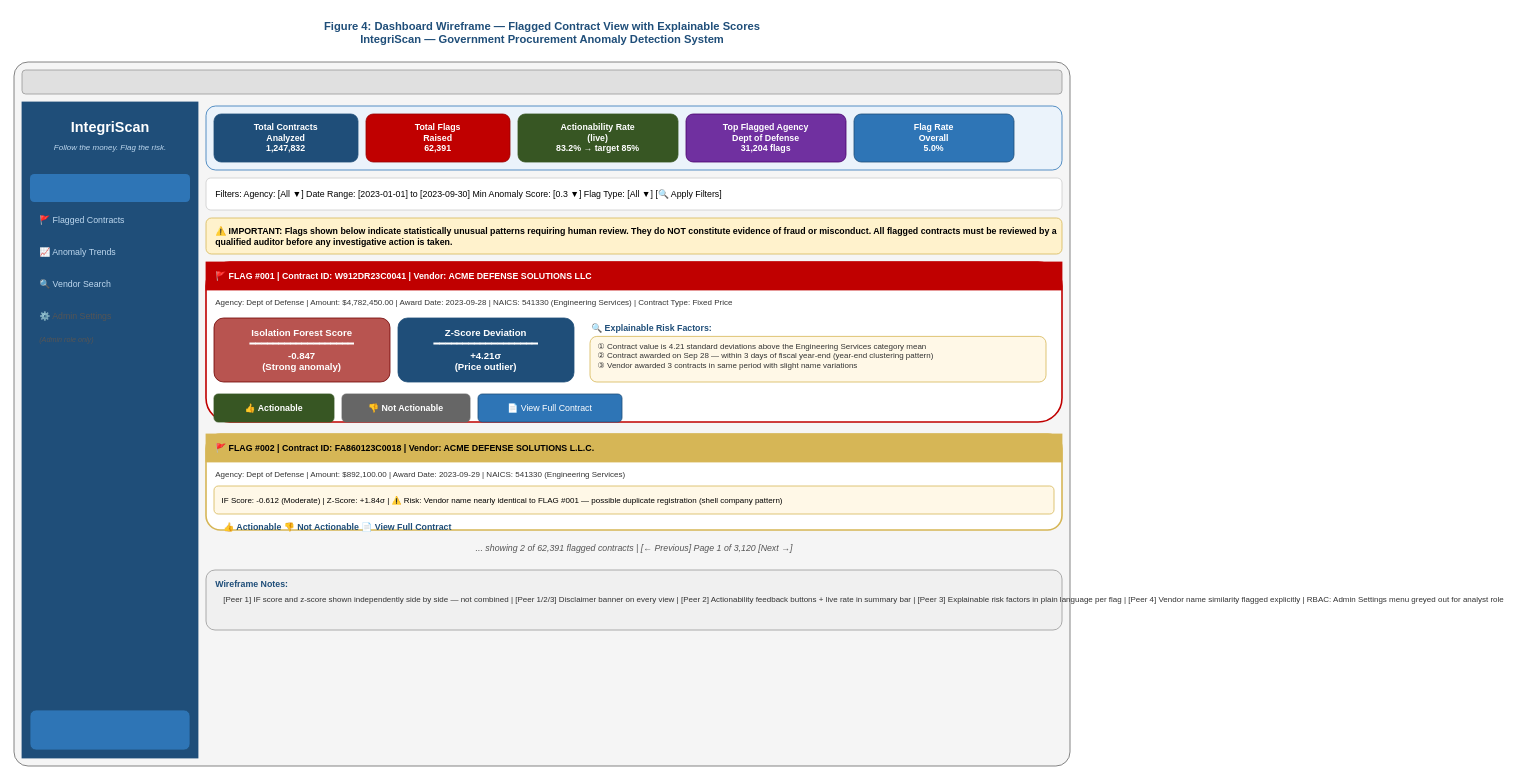
Image size: 1518x780. Some labels were removed from this diagram. The shapes that lost their labels are listed below. From the top down, each one's centre as x and y in pixels, then its label:
At point (541, 81): "🔒 localhost:8501 — IntegriScan Dashboard".
At point (110, 188): "📊 Dashboard Overview".
At point (109, 729): "👤 Logged in as: Analyst Role: Read Only".
